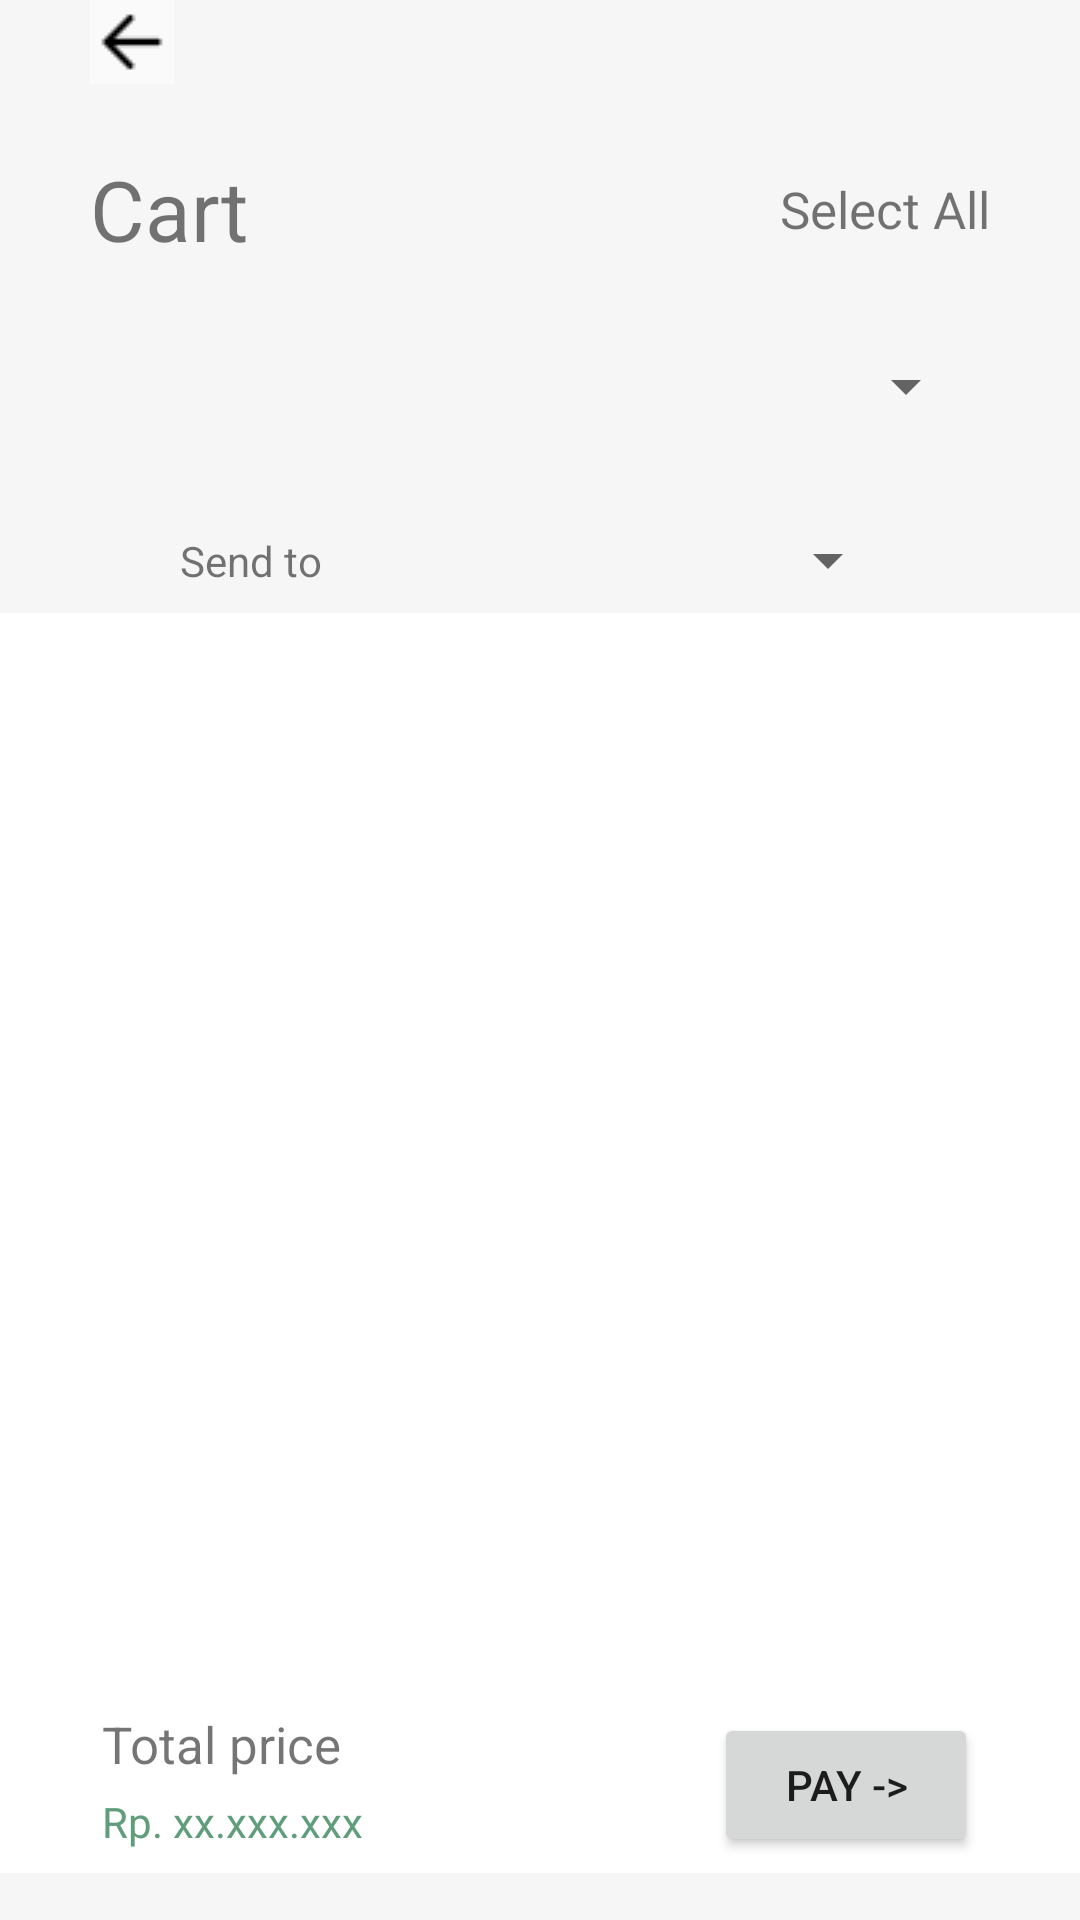

Locate icon controls on the screen. Image size 1080×1920, boxes as (left=x1, top=y1, right=x2, bottom=y2).
back: (left=101, top=14, right=163, bottom=70)
